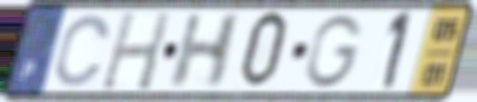0: (236, 9, 292, 94)
1: (379, 9, 417, 94)
C: (51, 12, 113, 90)
G: (302, 12, 367, 90)
H: (97, 8, 175, 93), (165, 11, 246, 91)
